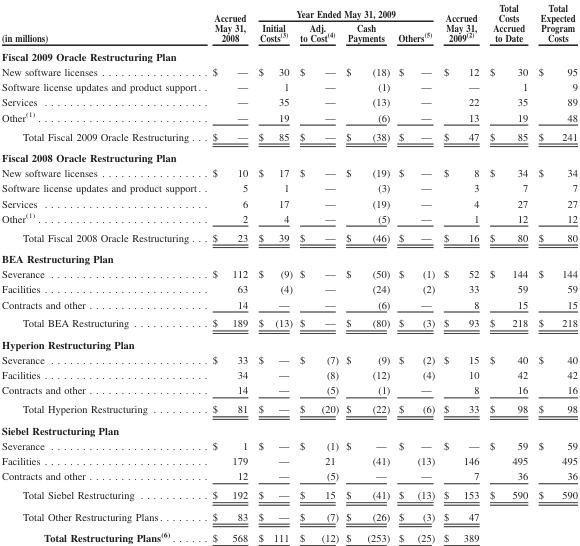table: (1, 0, 576, 543)
table column: (1, 0, 205, 543), (341, 0, 393, 543), (483, 0, 532, 543), (205, 0, 252, 543), (295, 0, 341, 543), (393, 0, 438, 543), (438, 0, 483, 543), (532, 0, 576, 543), (252, 0, 295, 543)
table column header: (1, 0, 576, 46)
table projected row header: (1, 146, 576, 165), (1, 247, 576, 266), (1, 46, 576, 64), (1, 333, 576, 351), (1, 419, 576, 437)
table row: (1, 20, 576, 46), (1, 0, 576, 20), (1, 126, 576, 146), (1, 227, 576, 247), (1, 313, 576, 333), (1, 399, 576, 419), (1, 485, 576, 505), (1, 505, 576, 525), (1, 146, 576, 165), (1, 247, 576, 266), (1, 46, 576, 64), (1, 108, 576, 126), (1, 209, 576, 227), (1, 333, 576, 351), (1, 419, 576, 437), (1, 525, 576, 543), (1, 296, 576, 313), (1, 382, 576, 399), (1, 468, 576, 485), (1, 351, 576, 367), (1, 452, 576, 468), (1, 64, 576, 79), (1, 79, 576, 94), (1, 165, 576, 180), (1, 180, 576, 195), (1, 266, 576, 281), (1, 281, 576, 296), (1, 367, 576, 382), (1, 437, 576, 452), (1, 94, 576, 108), (1, 195, 576, 209)
table spanning cell: (1, 0, 205, 46), (252, 0, 438, 20), (483, 0, 532, 46), (205, 0, 252, 46), (438, 0, 483, 46), (532, 0, 576, 46)
